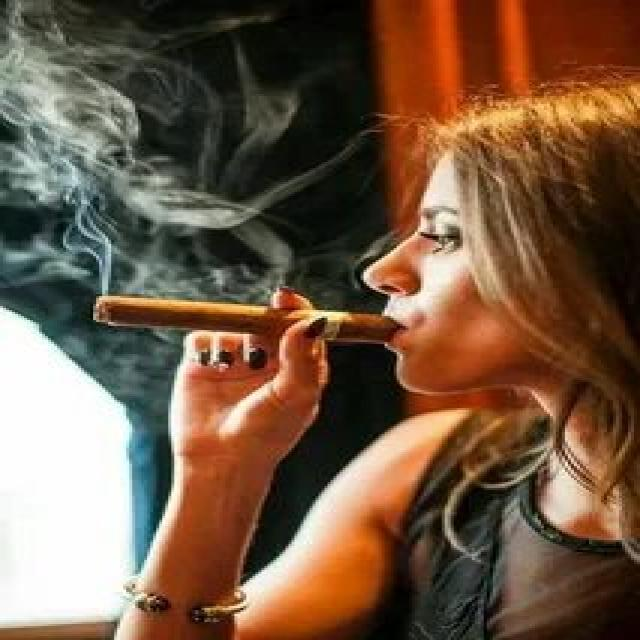cigarette: (84, 284, 412, 352)
